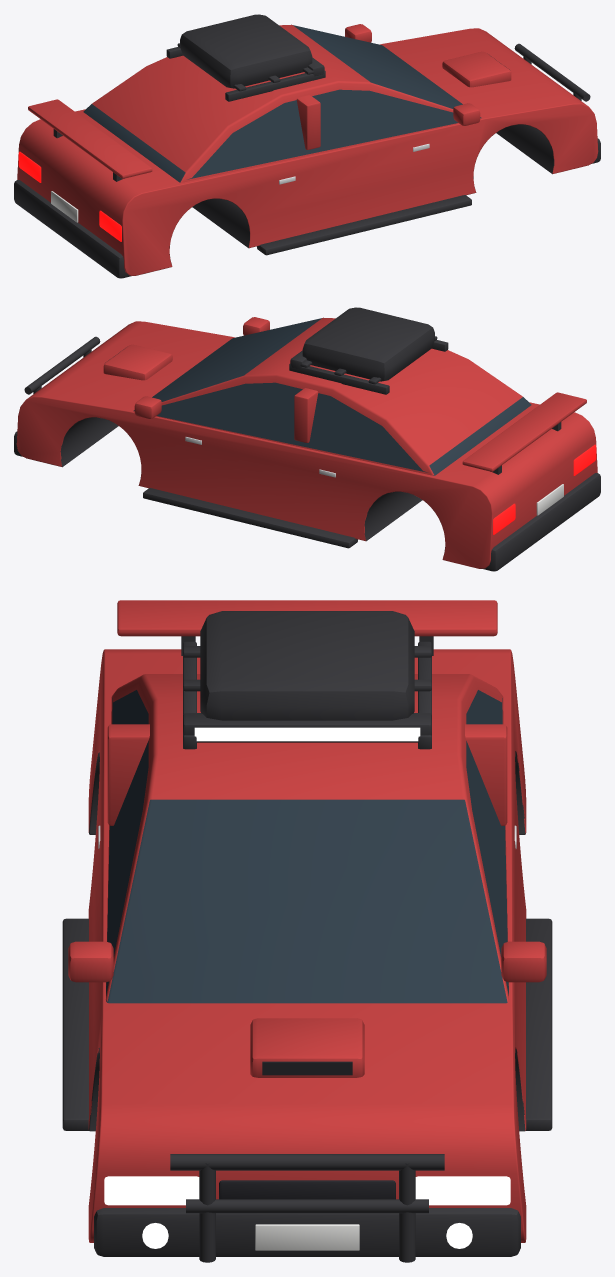
The model's file is sedan_esportivo.glb.
3 renders of one model, top to bottom at view 1: azimuth 30°, elevation 25°; view 2: azimuth 150°, elevation 25°; view 3: azimuth 270°, elevation 25°, orthographic. The views are drawn at different scales.
Visible parts, largest first — view 1: carroceria, cabine, bagageiro, asa, parachoque_t, estribo, tomada, coluna0, rack_trilho, qm_barra, retrovisor-1, lanterna1 (+3 smaller); view 2: carroceria, cabine, bagageiro, asa, parachoque_t, estribo.001, tomada, coluna0, rack_trilho.001, qm_barra, retrovisor1, lanterna-1 (+3 smaller); view 3: cabine, carroceria, bagageiro, parachoque_d, asa, tomada, coluna0, estribo, estribo.001, qm_barra, grade, qm_barra2 (+12 smaller).
Boxes of the visible parts, x1,y1,x2,y2 form: carroceria: (17, 28, 598, 275); cabine: (83, 24, 481, 182); bagageiro: (180, 14, 312, 88); asa: (28, 99, 152, 178); parachoque_t: (14, 180, 131, 278); estribo: (257, 195, 471, 255); tomada: (442, 51, 511, 87); coluna0: (296, 95, 320, 149); rack_trilho: (225, 71, 325, 101); qm_barra: (514, 43, 590, 101); retrovisor-1: (453, 103, 480, 125); lanterna1: (18, 151, 41, 182); carroceria: (16, 321, 597, 568); cabine: (133, 317, 531, 475); bagageiro: (302, 307, 434, 381); asa: (462, 392, 586, 471); parachoque_t: (483, 473, 600, 571); estribo.001: (143, 488, 357, 548); tomada: (103, 344, 172, 380); coluna0: (294, 388, 318, 442); rack_trilho.001: (289, 364, 389, 394); qm_barra: (24, 336, 100, 394); retrovisor1: (134, 396, 161, 418); lanterna-1: (573, 444, 596, 475); cabine: (106, 674, 508, 1003); carroceria: (88, 649, 526, 1242); bagageiro: (200, 611, 414, 720); parachoque_d: (94, 1208, 520, 1256); asa: (117, 600, 497, 636); tomada: (250, 1018, 364, 1077); coluna0: (107, 724, 507, 825); estribo: (62, 918, 88, 1130); estribo.001: (526, 918, 552, 1130); qm_barra: (170, 1154, 444, 1170); grade: (219, 1180, 395, 1199); qm_barra2: (186, 1199, 428, 1213).
Bounding box in the file's own units: 4.79 × 1.51 × 2.06.
